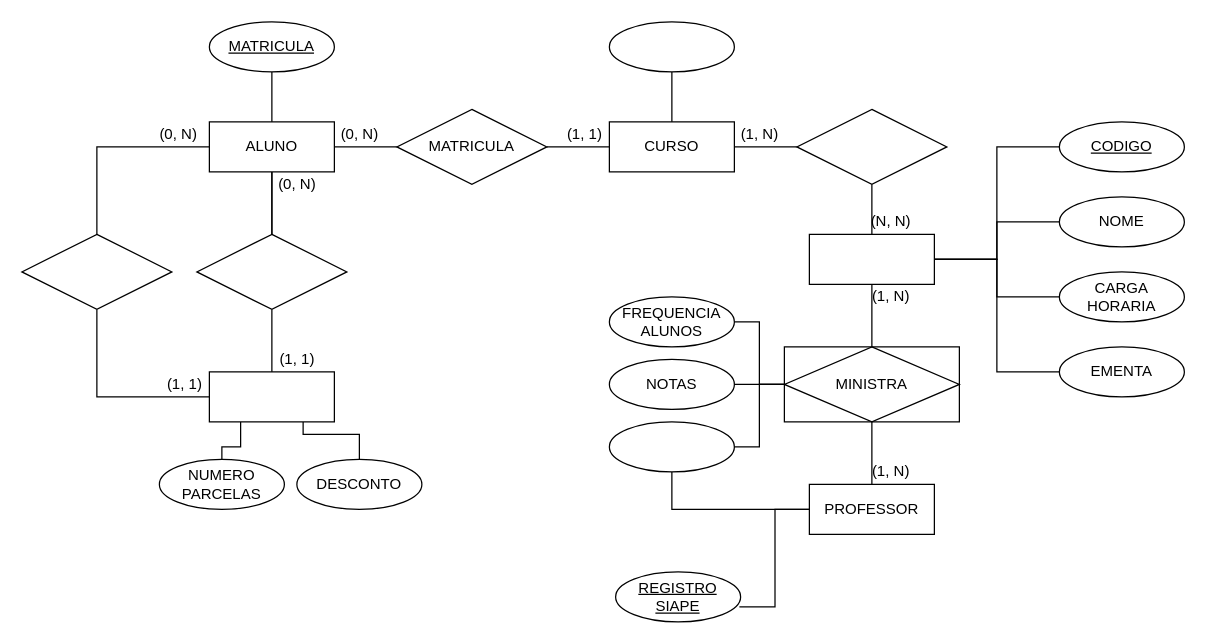
This 1206x644 diagram has some shape labels left out. Here are the shapes that lost their labels. From the top down, the centre of each, then its label:
At point 671,46: "CUSTO POR ALUNO".
At point 871,146: "TEM".
At point 96,271: "PAGA".
At point 271,271: "ESCOLHE".
At point 871,258: "MODULO".
At point 271,396: "PARCELAMENTO".
At point 671,446: "NOME PROFESSOR".
